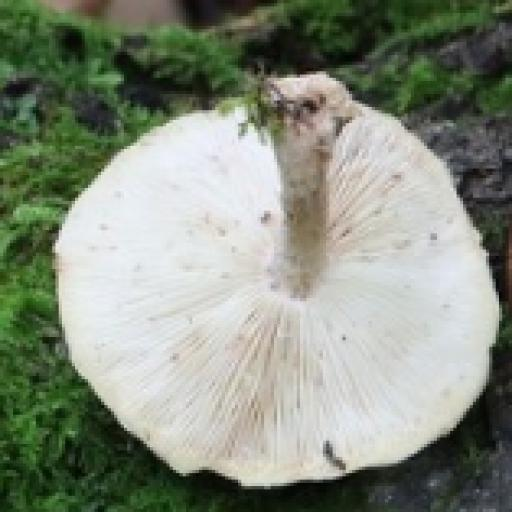Shiitake Mushroom: (23, 44, 512, 512)
